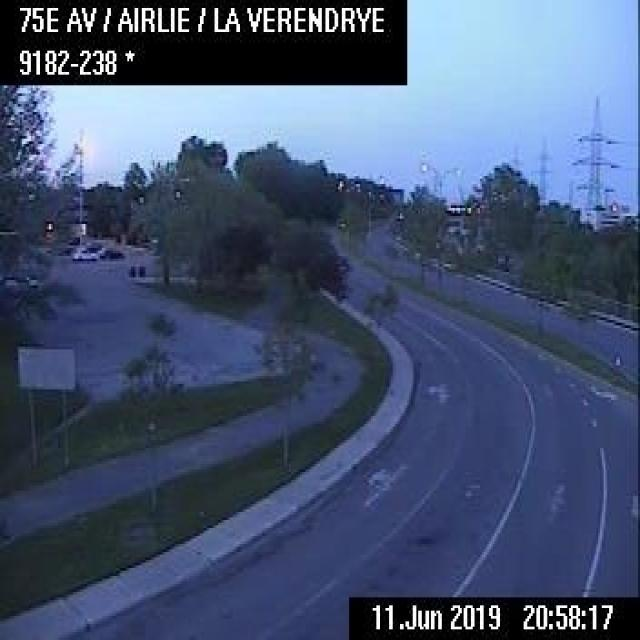vehicle: (70, 243, 96, 261)
